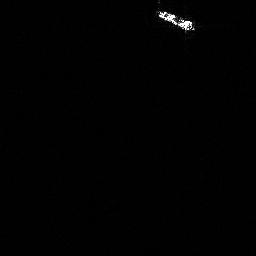ship: (153, 6, 199, 34)
